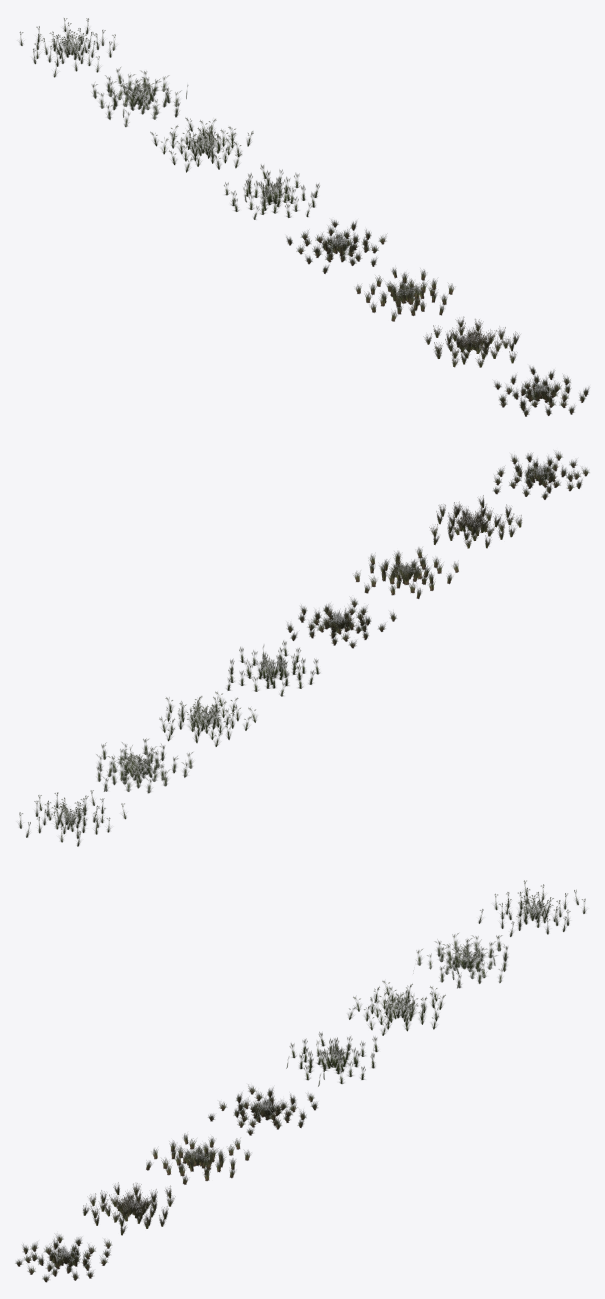
File: grass_patches (1).glb
3 renders of one model, top to bottom at view 1: azimuth 30°, elevation 25°; view 2: azimuth 150°, elevation 25°; view 3: azimuth 330°, elevation 25°, orthographic.
Visible parts, largest first — view 1: U3DMesh.001, U3DMesh.005, U3DMesh.006, U3DMesh.002, U3DMesh.003, U3DMesh, U3DMesh.004, U3DMesh.007; view 2: U3DMesh.006, U3DMesh.001, U3DMesh.005, U3DMesh.002, U3DMesh, U3DMesh.003, U3DMesh.004, U3DMesh.007; view 3: U3DMesh.001, U3DMesh.006, U3DMesh.002, U3DMesh.005, U3DMesh.003, U3DMesh, U3DMesh.004, U3DMesh.007.
Boxes of the visible parts, <box> form: U3DMesh.001: <box>423,316,519,367</box>; U3DMesh.005: <box>150,117,253,172</box>; U3DMesh.006: <box>92,67,187,127</box>; U3DMesh.002: <box>356,268,454,321</box>; U3DMesh.003: <box>286,220,386,273</box>; U3DMesh: <box>494,366,589,416</box>; U3DMesh.004: <box>224,165,319,219</box>; U3DMesh.007: <box>19,18,115,77</box>; U3DMesh.006: <box>96,738,192,793</box>; U3DMesh.001: <box>429,495,521,548</box>; U3DMesh.005: <box>159,691,256,746</box>; U3DMesh.002: <box>353,547,458,598</box>; U3DMesh: <box>493,451,589,499</box>; U3DMesh.003: <box>286,597,396,648</box>; U3DMesh.004: <box>226,640,320,696</box>; U3DMesh.007: <box>19,790,126,846</box>; U3DMesh.001: <box>83,1182,175,1235</box>; U3DMesh.006: <box>416,933,508,988</box>; U3DMesh.002: <box>146,1133,250,1184</box>; U3DMesh.005: <box>348,981,445,1035</box>; U3DMesh.003: <box>208,1085,317,1135</box>; U3DMesh: <box>15,1235,111,1282</box>; U3DMesh.004: <box>286,1032,378,1086</box>; U3DMesh.007: <box>478,880,586,936</box>.
Size of the model in its own units: 7.81 by 1.8 by 78.15.
Materials: 8 (8 with a texture image).
